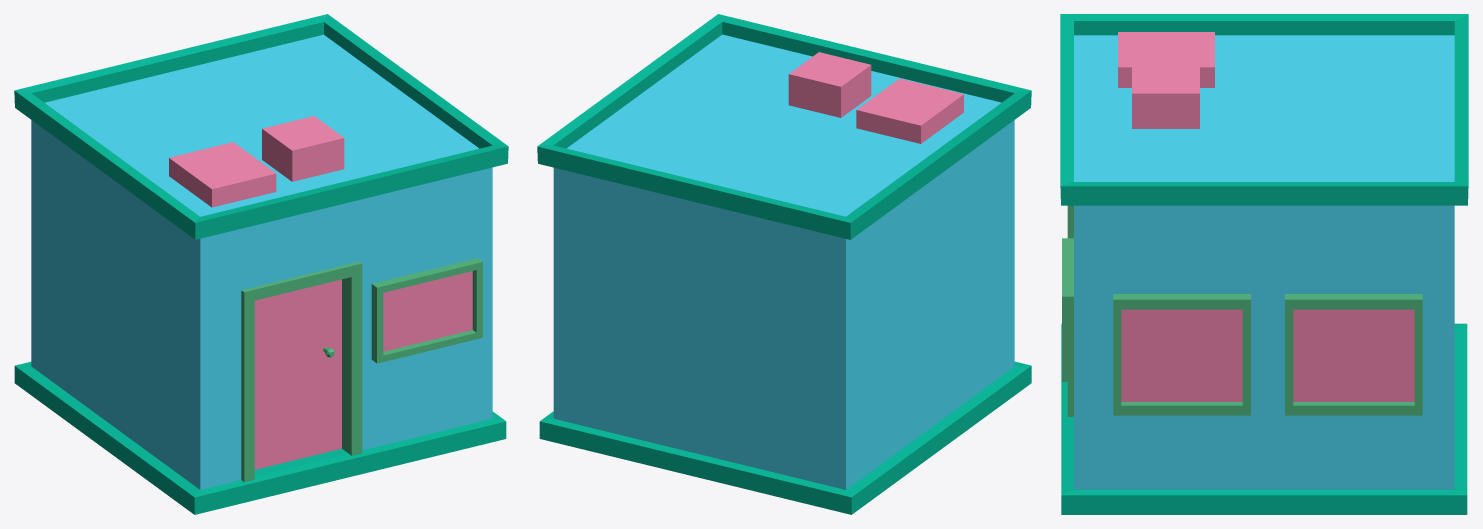
The model's file is BuildingBlue.fbx.
3 renders of one model, left to right at view 1: azimuth 30°, elevation 25°; view 2: azimuth 150°, elevation 25°; view 3: azimuth 270°, elevation 25°, orthographic. The views are drawn at different scales.
Visible parts, largest first — view 1: Building 2; view 2: Building 2; view 3: Building 2.
Boxes of the visible parts, left/top/right/bottom form: Building 2: left=14, top=14, right=508, bottom=514; Building 2: left=537, top=14, right=1031, bottom=514; Building 2: left=1060, top=14, right=1468, bottom=514.
Bounding box in the file's own units: 373 × 351 × 371.
